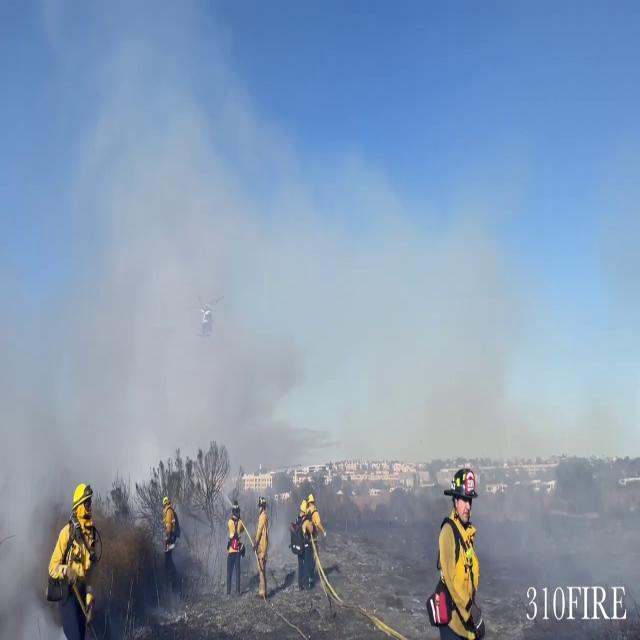Smoke: (0, 91, 626, 518)
